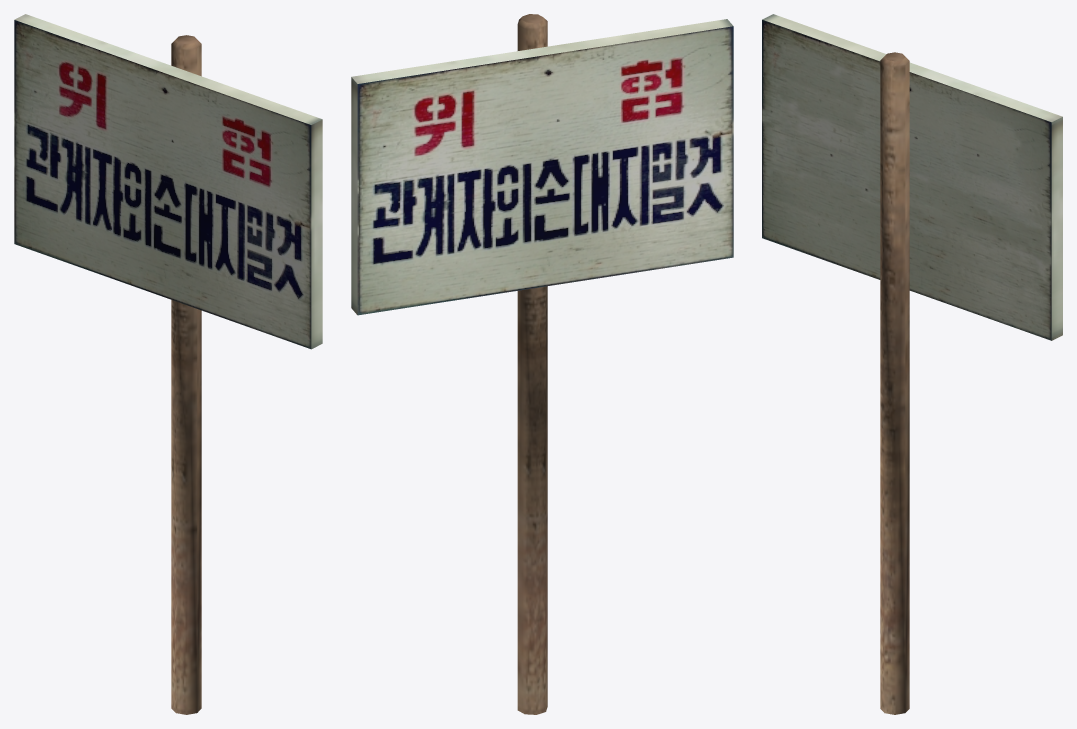
File: WarningSignPost.FBX
3 renders of one model, left to right at view 1: azimuth 90°, elevation 25°; view 2: azimuth 150°, elevation 25°; view 3: azimuth 270°, elevation 25°, orthographic. The views are drawn at different scales.
Visible parts, largest first — view 1: Warning_Sign; view 2: Warning_Sign; view 3: Warning_Sign.
Boxes of the visible parts, left/top/right/bottom form: Warning_Sign: left=14, top=14, right=322, bottom=714; Warning_Sign: left=351, top=14, right=733, bottom=714; Warning_Sign: left=762, top=14, right=1062, bottom=714.
Size of the model in its own units: 0.635 by 0.7451 by 1.78.
1 material, 1 textured.
